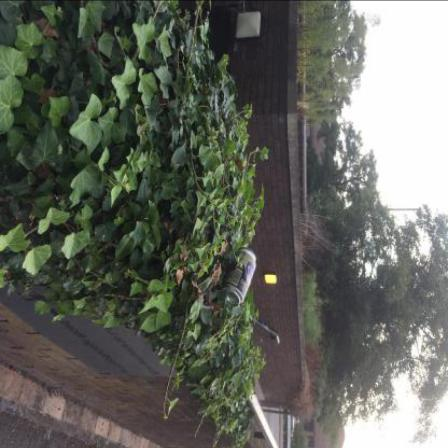Can: (224, 248, 257, 305)
